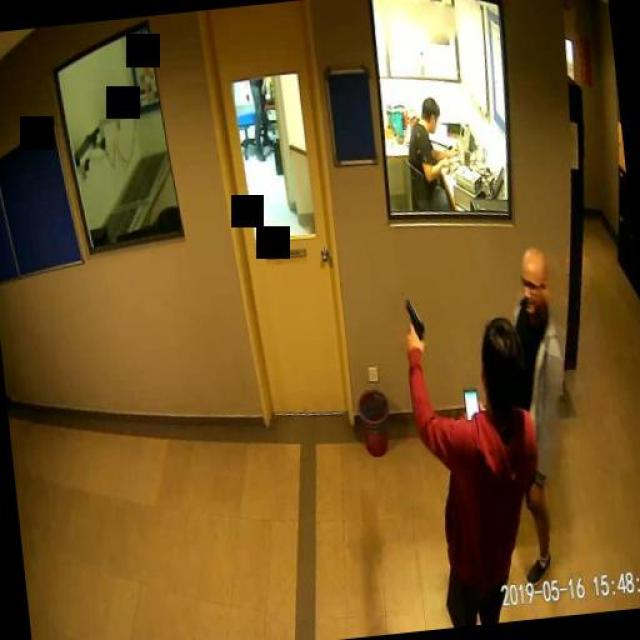gun: (401, 296, 425, 344)
